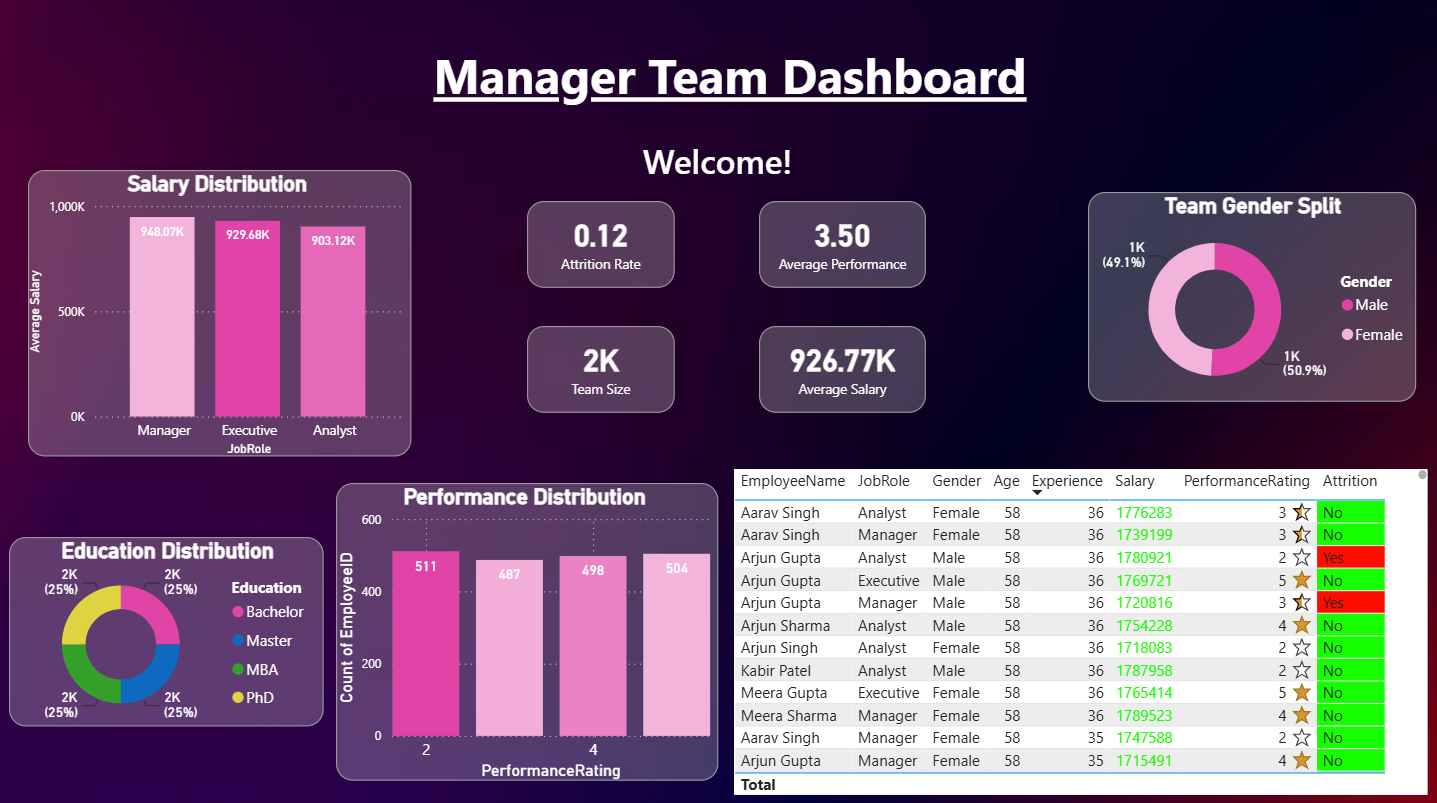

What the dashboard file says about the page in this screenshot:
{"tool":"powerbi","page":{"name":"Manager Team Dashboard","canvas":[1280,720],"ordinal":2},"visuals":[{"type":"cardVisual","fields":{"Data":["Measures Table.Team Size"]},"box":[470.8,292.6,131.2,77.1],"z":0},{"type":"cardVisual","fields":{"Data":["Measures Table.Team Average Salary"]},"box":[676.6,292.6,148.1,77.1],"z":1000},{"type":"cardVisual","fields":{"Data":["Measures Table.Team Average Performance"]},"box":[676.6,181.8,148.1,77.1],"z":2000},{"type":"cardVisual","fields":{"Data":["Measures Table.Team Attrition Rate"]},"box":[470.8,181.8,131.2,77.1],"z":3000},{"type":"donutChart","title":"Team Gender Split","fields":{"Category":["Employee.Gender"],"Y":["Measures Table.Team Size"]},"box":[968.3,173.8,290.8,186.2],"z":4000},{"type":"donutChart","title":" Education Distribution","fields":{"Category":["HR.Education"],"Y":["Measures Table.Team Size"]},"box":[11.5,479.7,279.3,168.5],"z":5000},{"type":"clusteredColumnChart","title":"Performance Distribution","fields":{"Category":["HR.PerformanceRating"],"Y":["CountNonNull(HR.EmployeeID)"]},"box":[301.5,431.8,338.7,264.2],"z":6000},{"type":"columnChart","title":"Salary Distribution","fields":{"Category":["Employee.JobRole"],"Y":["Measures Table.Average Salary"]},"box":[28.4,154.3,339.6,253.6],"z":6001},{"type":"tableEx","fields":{"Values":["Employee.EmployeeName","Employee.JobRole","Employee.Gender","HR.Age","HR.Experience","HR.Salary","HR.PerformanceRating","HR.Attrition"]},"box":[654.4,419.4,615.4,289.1],"z":6002},{"type":"textbox","box":[257.1,40.8,787.4,61.2],"z":6005},{"type":"cardVisual","fields":{"Data":["Date.Welcome Message"]},"box":[435.4,115.3,409.7,58.5],"z":6006}]}

Visuals, with their boxes in screenshot pixels (x1, y1, x2, y2), scaled from the page's 1280x720 canvas onto the 1437x803 screenshot:
cardVisual - Measures Table.Team Size: [x1=529, y1=326, x2=676, y2=412]
cardVisual - Measures Table.Team Average Salary: [x1=760, y1=326, x2=926, y2=412]
cardVisual - Measures Table.Team Average Performance: [x1=760, y1=203, x2=926, y2=289]
cardVisual - Measures Table.Team Attrition Rate: [x1=529, y1=203, x2=676, y2=289]
"Team Gender Split" donutChart: [x1=1087, y1=194, x2=1414, y2=402]
" Education Distribution" donutChart: [x1=13, y1=535, x2=326, y2=723]
"Performance Distribution" clusteredColumnChart: [x1=338, y1=482, x2=719, y2=776]
"Salary Distribution" columnChart: [x1=32, y1=172, x2=413, y2=455]
tableEx - Employee.EmployeeName x Employee.JobRole: [x1=735, y1=468, x2=1426, y2=790]
textbox: [x1=289, y1=46, x2=1173, y2=114]
cardVisual - Date.Welcome Message: [x1=489, y1=129, x2=949, y2=194]
